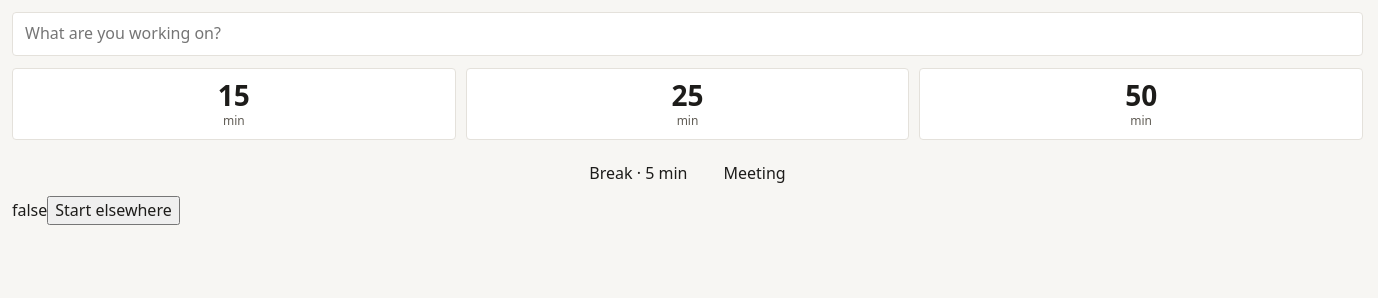
FocusTimer › holds the start buttons while a break start is out
Click the button "Break · 5 min". click: (638, 174)
box: x1=574 y1=152 x2=702 y2=196
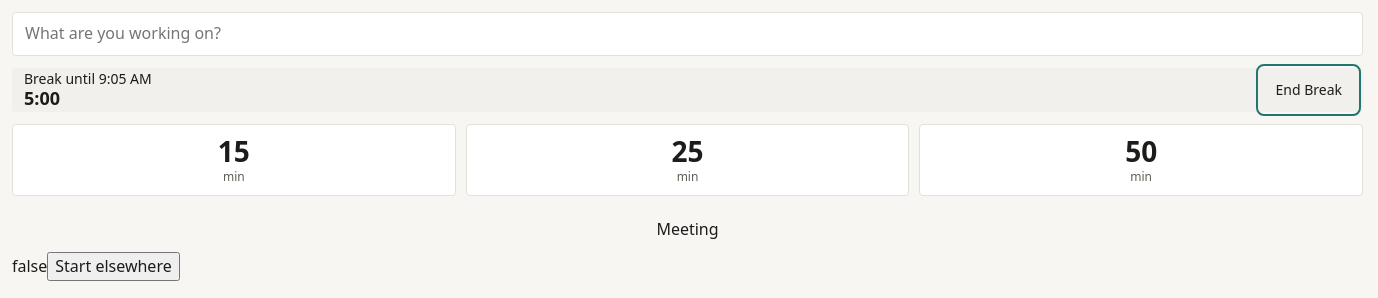
Result: the button "End Break" is shown at x1=1260 y1=68 x2=1357 y2=112
